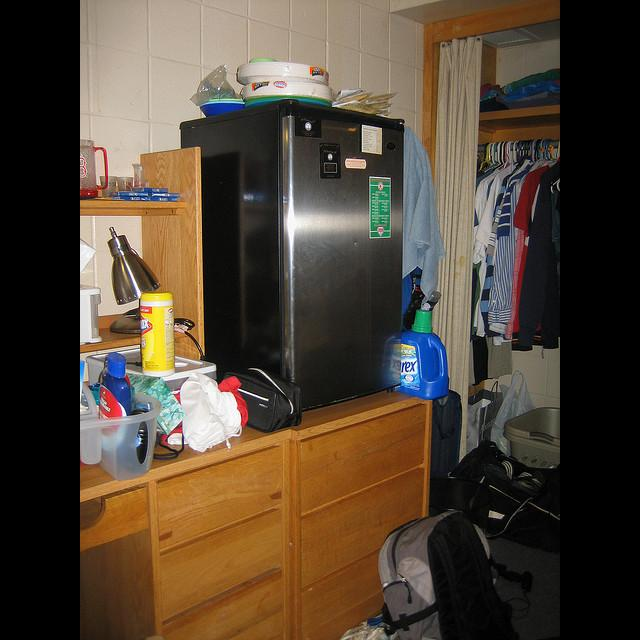Refrigerator: (178, 99, 408, 410)
